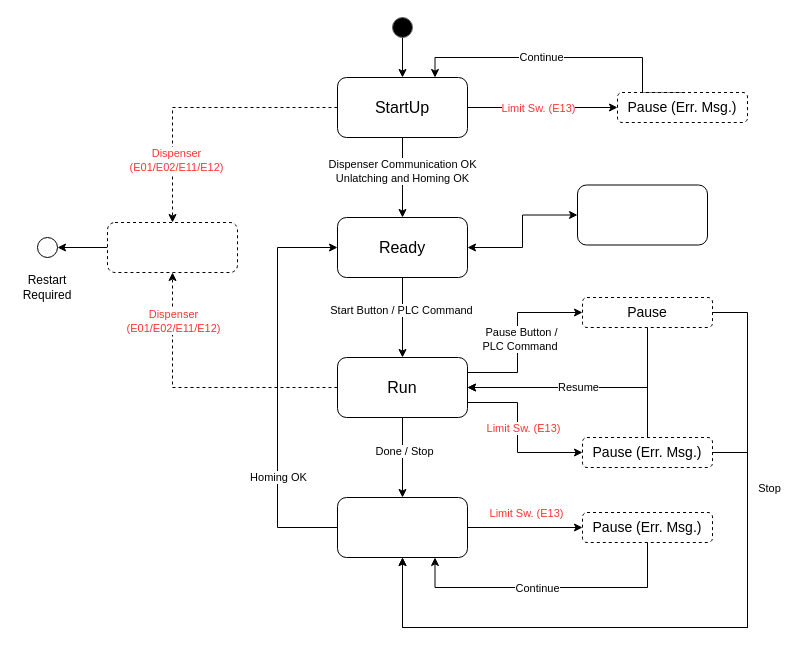
The diagram is 797 pixels wide and 653 high, and some of its shapes have lost their labels. The shapes that lost their labels are listed below. From the top down, each one's box as (x1, y1, x2, y2) in pixels, then its label:
(576, 184, 708, 245): Settings*
(106, 222, 238, 272): Error Message (Unrecoverable)
(336, 496, 468, 558): Homing
